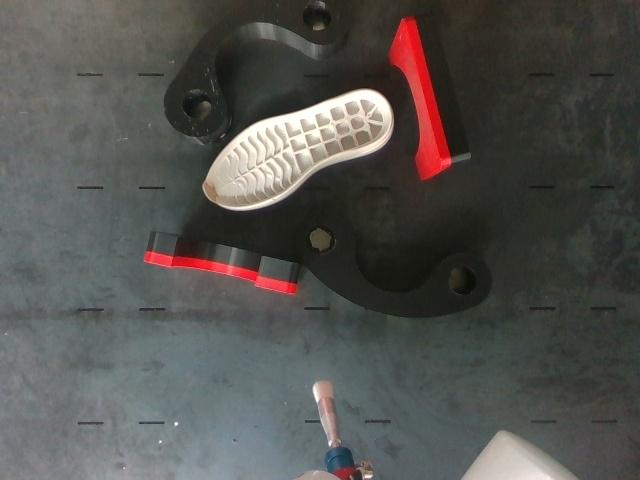shoes: (205, 90, 391, 209)
